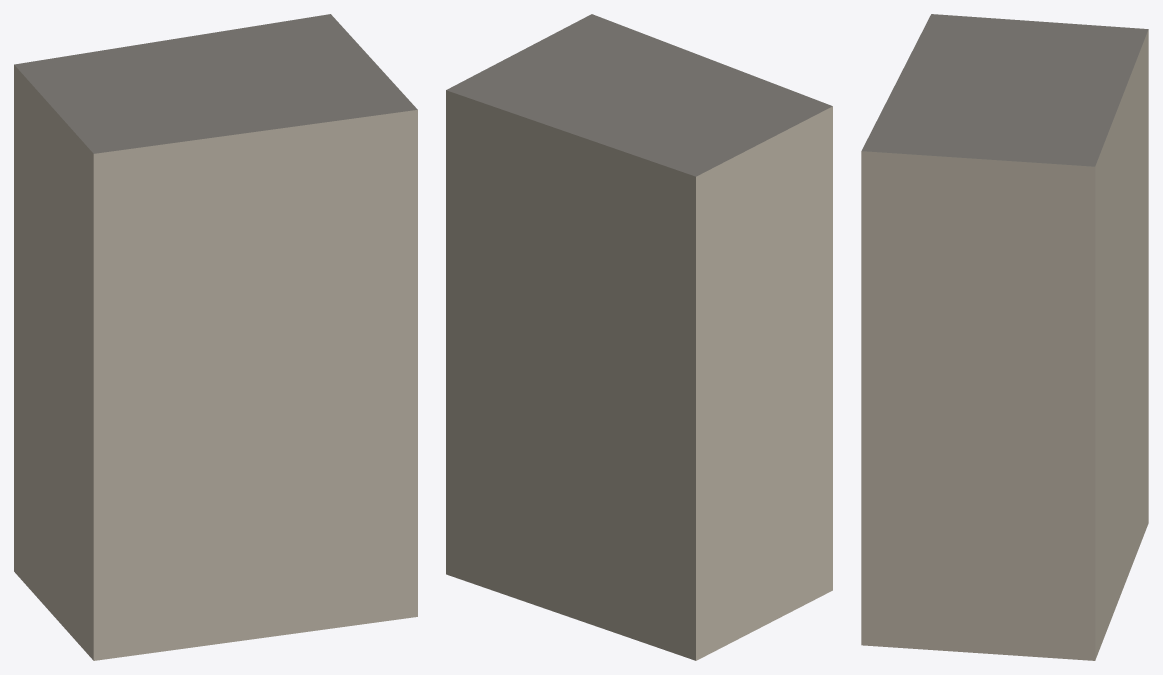
The picture shows the model from 3 angles, left to right: view 1: azimuth 30°, elevation 25°; view 2: azimuth 150°, elevation 25°; view 3: azimuth 270°, elevation 25°; orthographic projection. The views are drawn at different scales.
Parts seen in each view (by area): view 1: HP-w505643554; view 2: HP-w505643554; view 3: HP-w505643554.
Part boxes in pixels (x1,y1,x2,y2): HP-w505643554: (14,14,417,660); HP-w505643554: (446,14,832,660); HP-w505643554: (861,14,1148,660).
Size of the model in its own units: 11.93 by 18 by 9.48.
